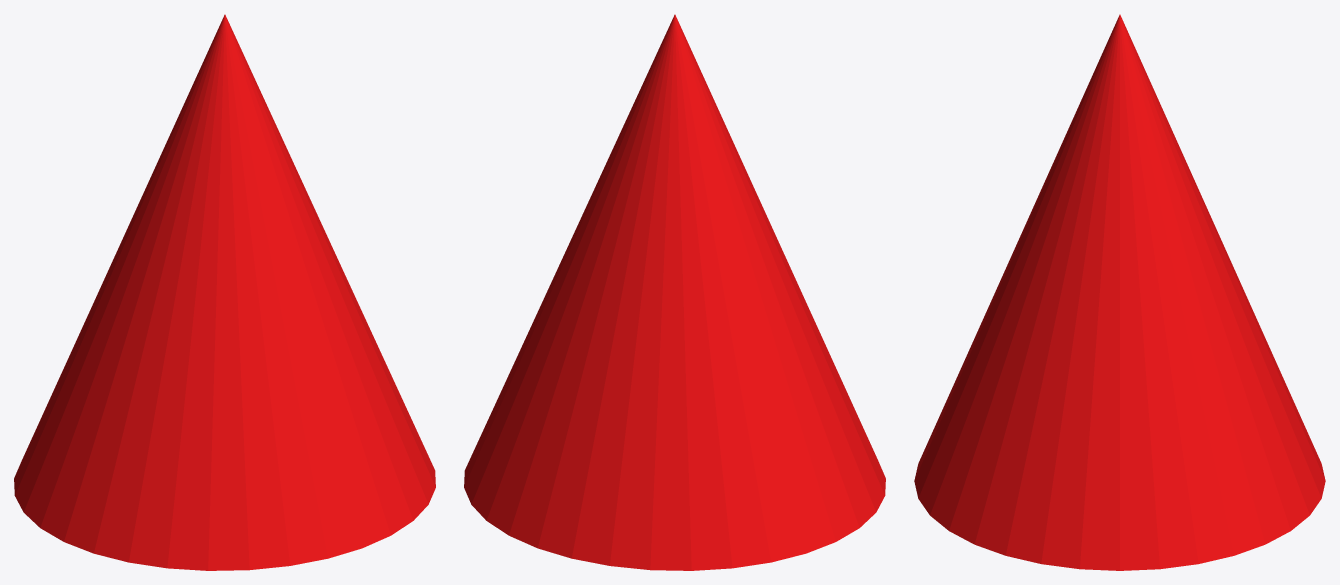
The model's file is cone-red.glb.
The picture shows the model from 3 angles, left to right: view 1: azimuth 30°, elevation 25°; view 2: azimuth 150°, elevation 25°; view 3: azimuth 270°, elevation 25°; orthographic projection.
Parts seen in each view (by area): view 1: Cone; view 2: Cone; view 3: Cone.
Boxes of the visible parts, <box> form: Cone: <box>14,14,435,570</box>; Cone: <box>464,14,885,570</box>; Cone: <box>914,14,1325,570</box>.
Size of the model in its own units: 3.34 by 4.05 by 3.23.
